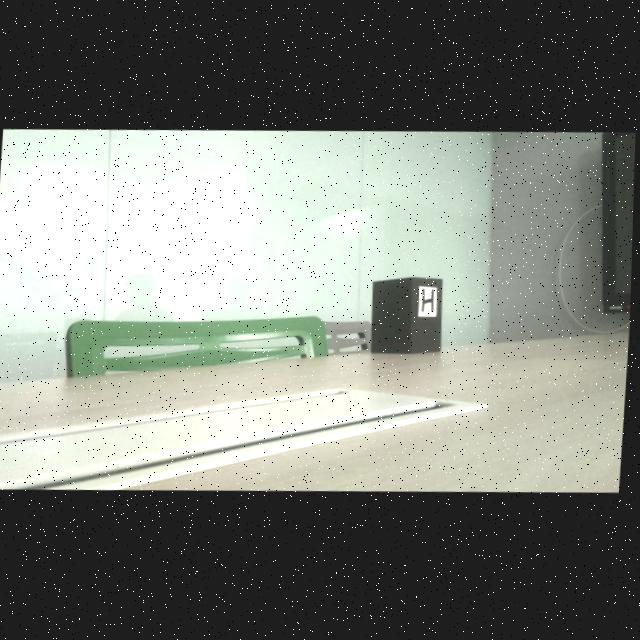H: (423, 291, 436, 315)
